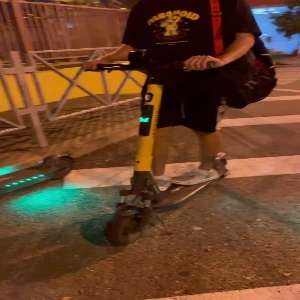human on a scooter: (81, 1, 280, 248)
